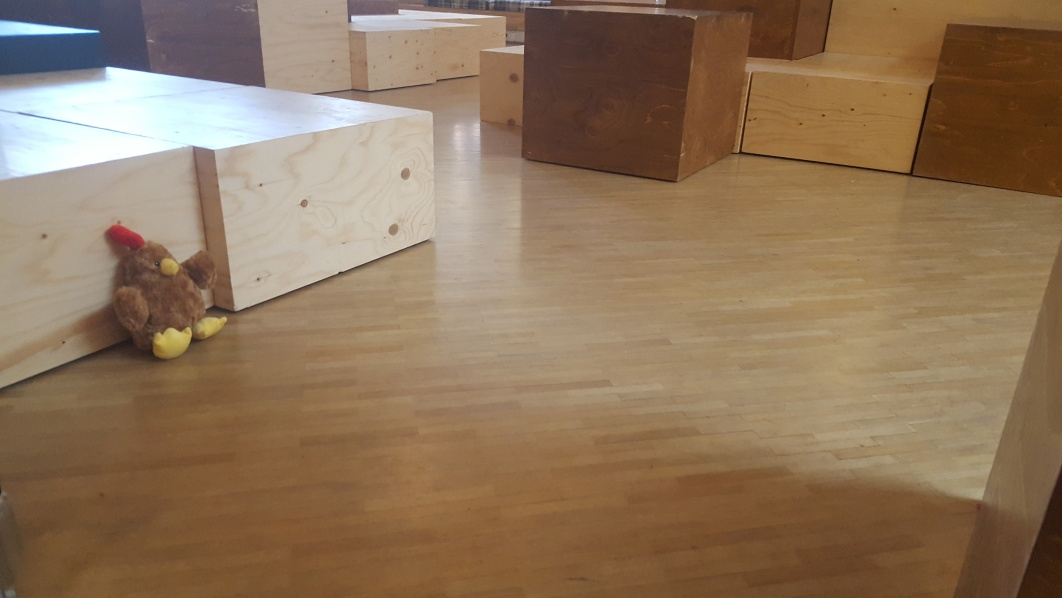chicken: (100, 219, 231, 359)
